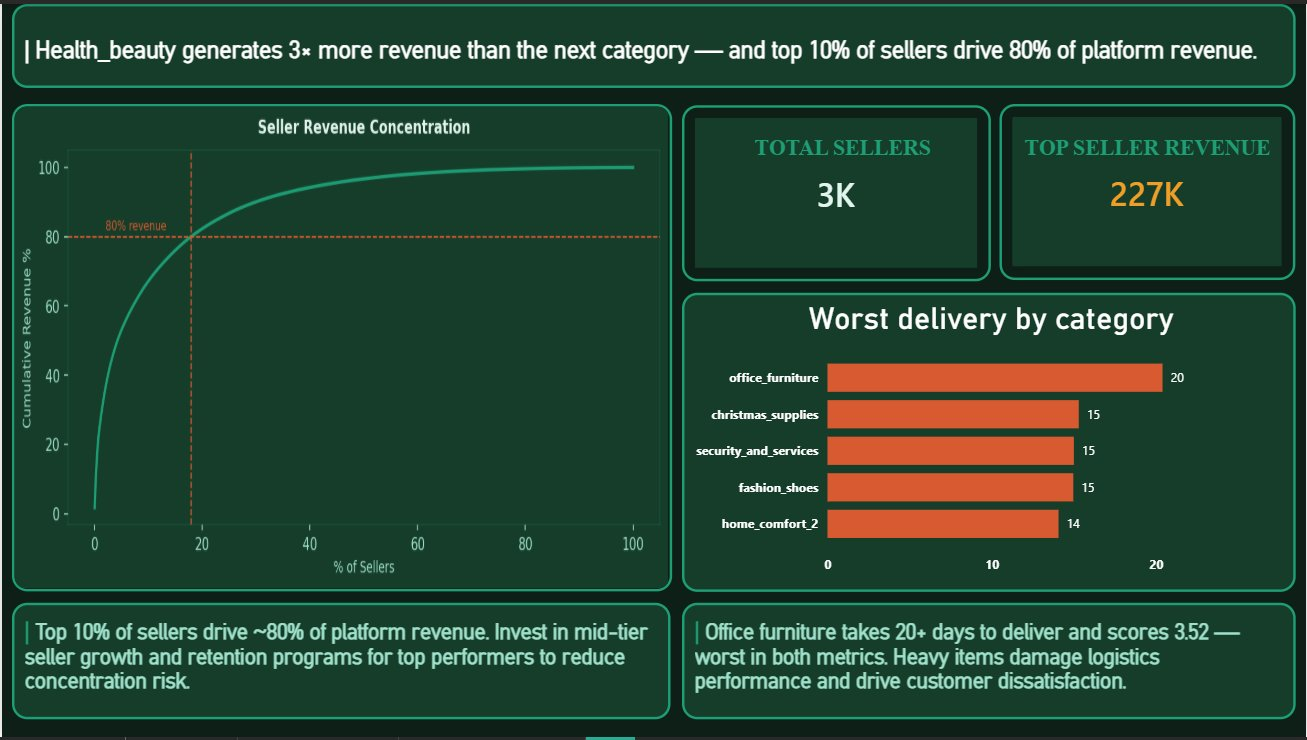

This screenshot's page, from the dashboard's own definition file:
{"tool":"powerbi","page":{"name":"Categories & Sellers","canvas":[1280,720],"ordinal":2},"visuals":[{"type":"textbox","box":[9.8,0,1260.1,82.2],"z":0},{"type":"clusteredBarChart","title":"Worst delivery by category","fields":{"Category":["clean_orders.product_category_name_english"],"Y":["Avg(clean_orders.delivery_days)"]},"box":[667.5,283.4,602.5,293.3],"z":1000},{"type":"cardVisual","title":"TOTAL SELLERS","fields":{"Data":["Count(clean_orders.seller_id)"]},"box":[667.5,99.4,303.1,173],"z":2000},{"type":"textbox","box":[9.8,587.7,646.6,114.1],"z":3000},{"type":"textbox","box":[733.7,123.9,198.8,42.9],"z":4000},{"type":"cardVisual","title":"TOTAL SELLERS","fields":{"Data":["clean_orders.Top Seller Rev"]},"box":[979.1,98.2,290.8,173],"z":5000},{"type":"textbox","box":[998.8,123.9,252.8,36.8],"z":6000},{"type":"textbox","box":[667.5,587.7,602.5,114.1],"z":9000},{"type":"image","box":[9.8,98.2,647.9,478.5],"z":10000}]}

Visuals, with their boxes in screenshot pixels (x1, y1, x2, y2), scaled from the page's 1280x720 canvas onto the 1307x740 screenshot:
textbox: detection(10, 0, 1297, 84)
"Worst delivery by category" clusteredBarChart: detection(682, 291, 1297, 593)
"TOTAL SELLERS" cardVisual: detection(682, 102, 991, 280)
textbox: detection(10, 604, 670, 721)
textbox: detection(749, 127, 952, 171)
"TOTAL SELLERS" cardVisual: detection(1000, 101, 1297, 279)
textbox: detection(1020, 127, 1278, 165)
textbox: detection(682, 604, 1297, 721)
image: detection(10, 101, 672, 593)
